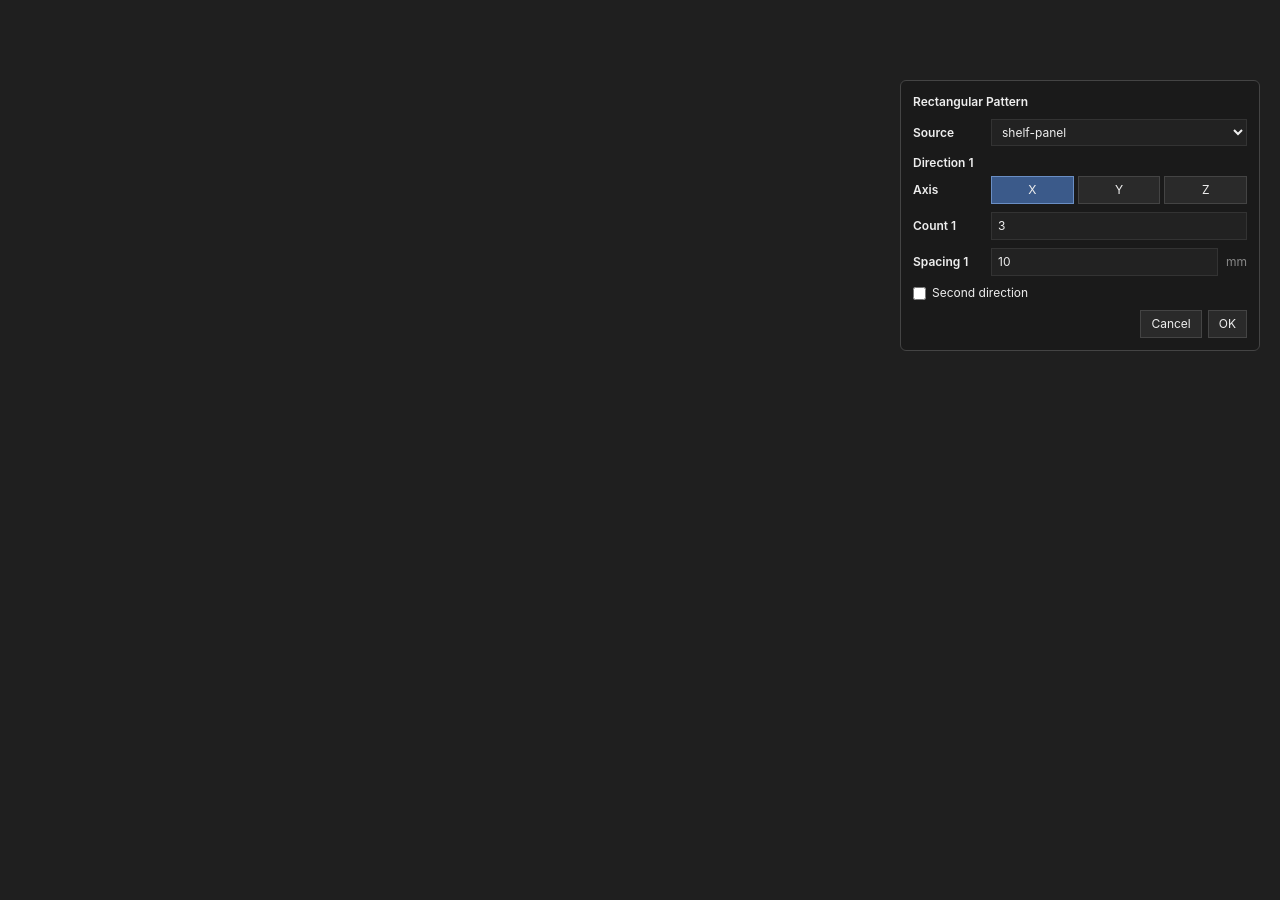
it: ComponentPatternDialog › OK disabled when count < 2
The width and height of the screenshot is (1280, 900).
Replace the text in the number field labelled "Count 1" with "1": (1119, 226) [991,212,1247,240]
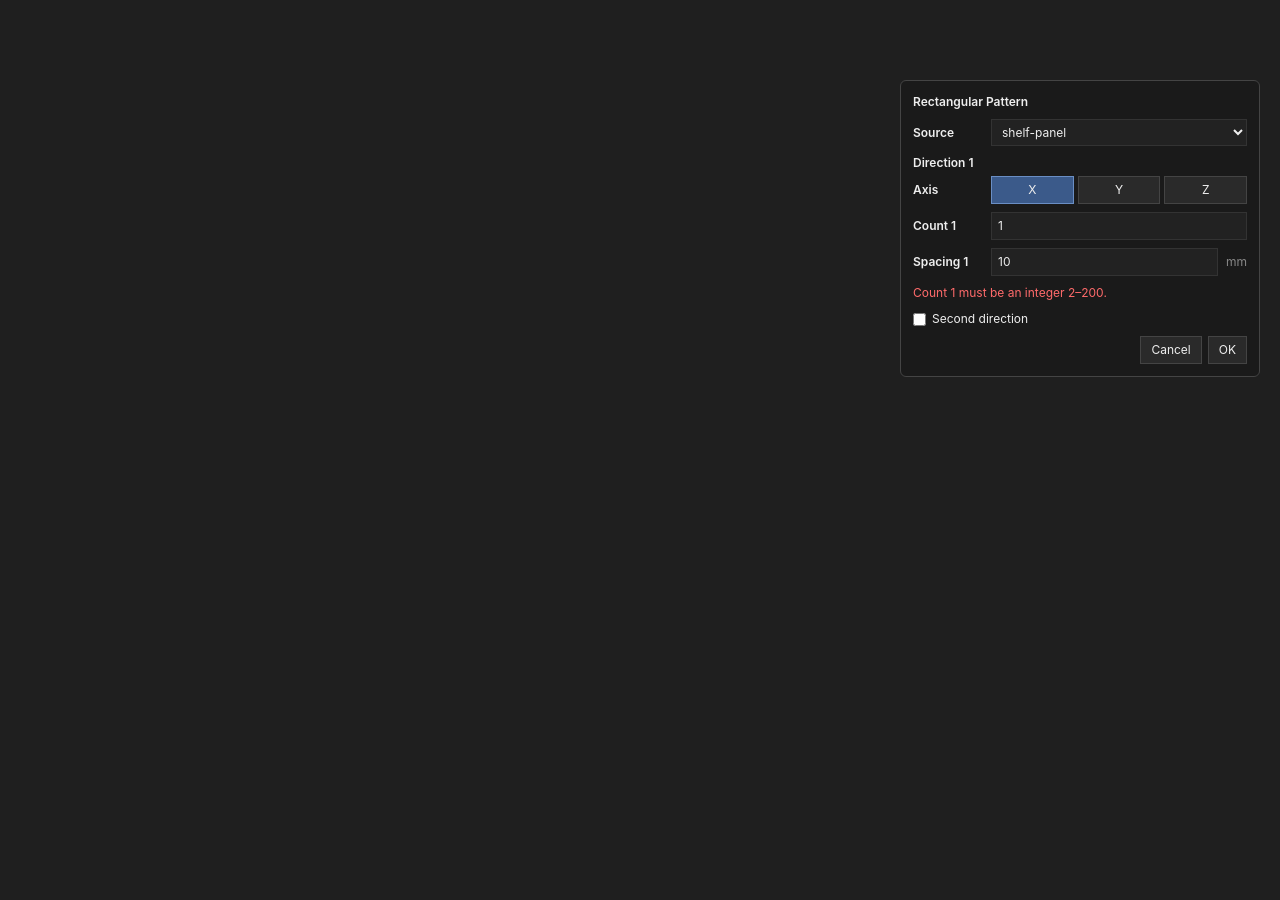
Result: the button "OK" is disabled at [1208,336,1247,364]
